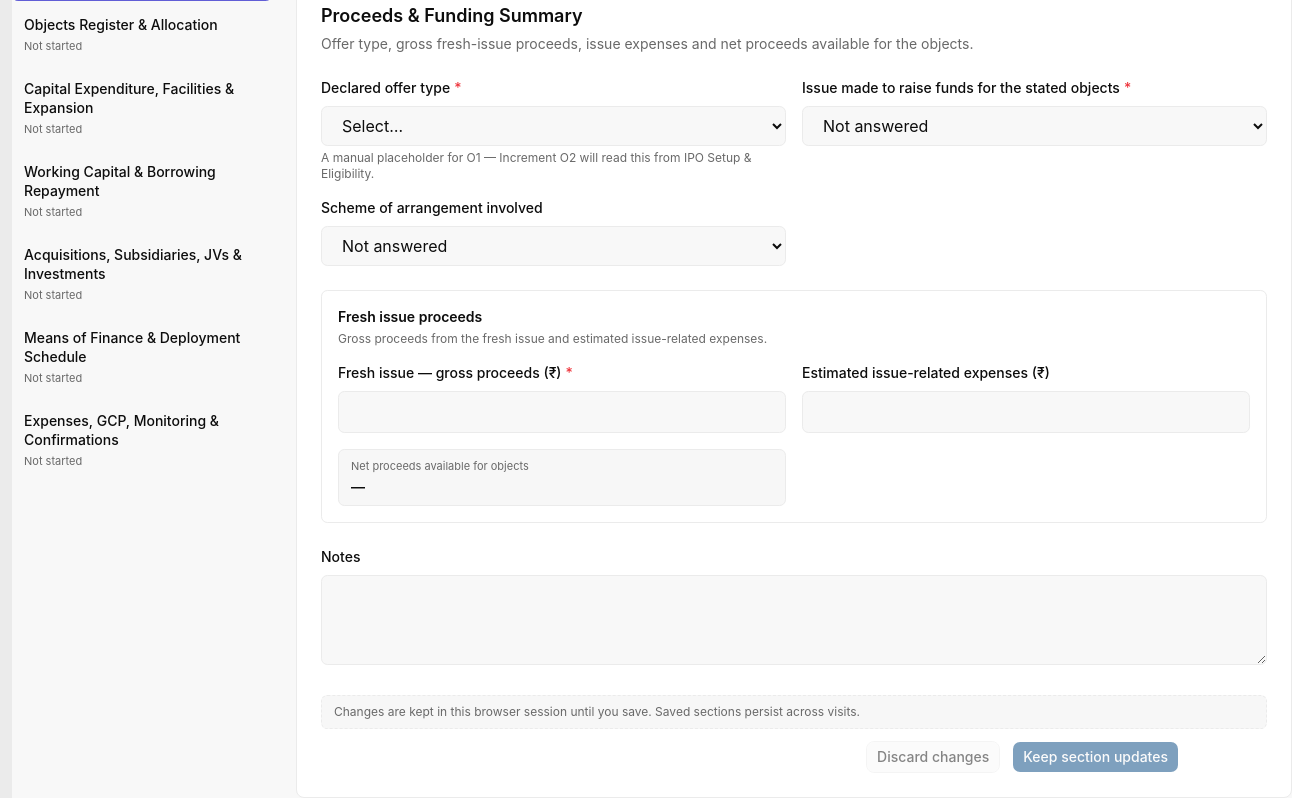
Test: Objects of the Issue workstream UI (O2 API-backed) › discards drafts back to the persisted baseline
(page scrolled)
Type "Draft only" into the text box labelled "Notes". click: (794, 620)
box: [321,574,1267,664]
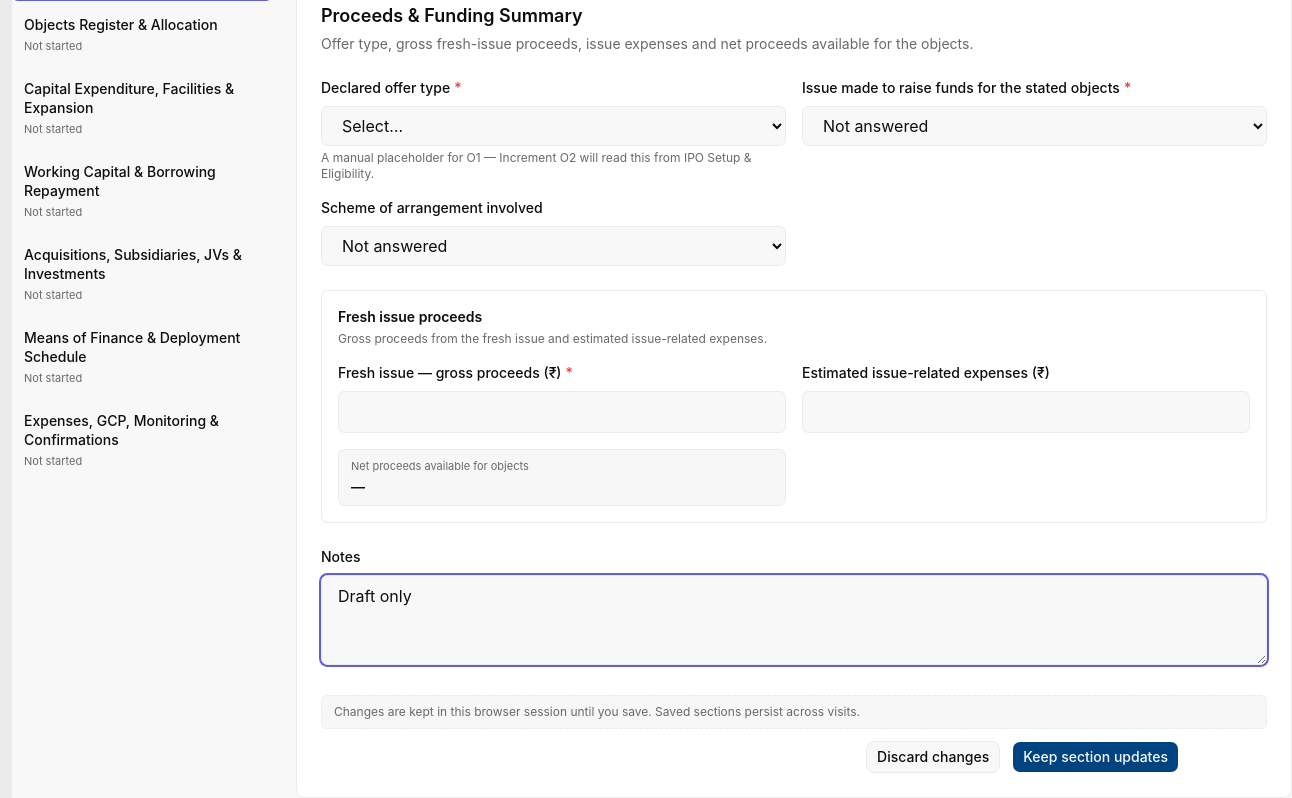
Click the button "Discard changes". click: click(933, 756)
box: [866,740,1000,772]
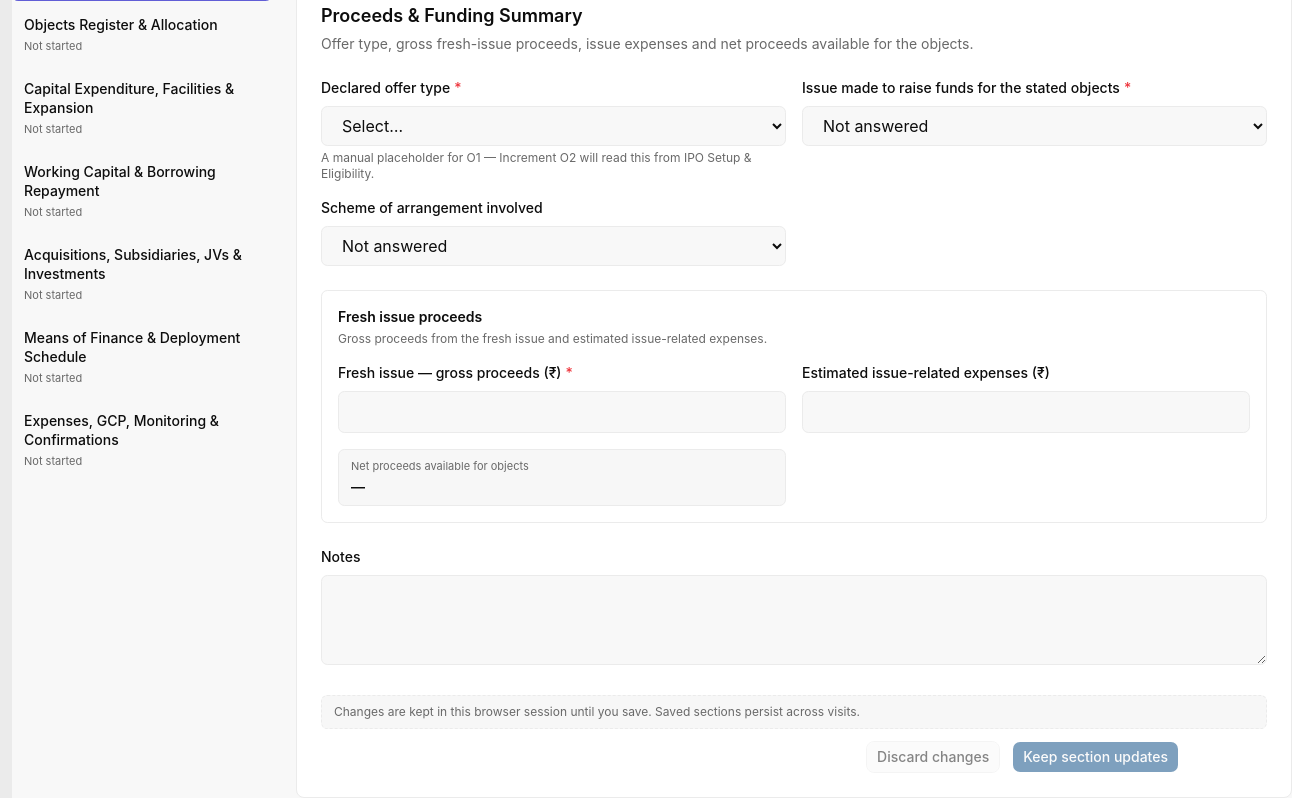
expect the text box labelled "Notes" is empty: met, box [321,574,1267,664]
